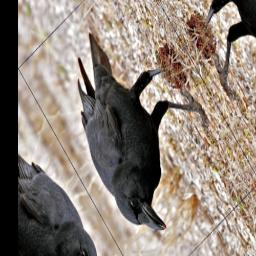Crow: (44, 0, 232, 254)
